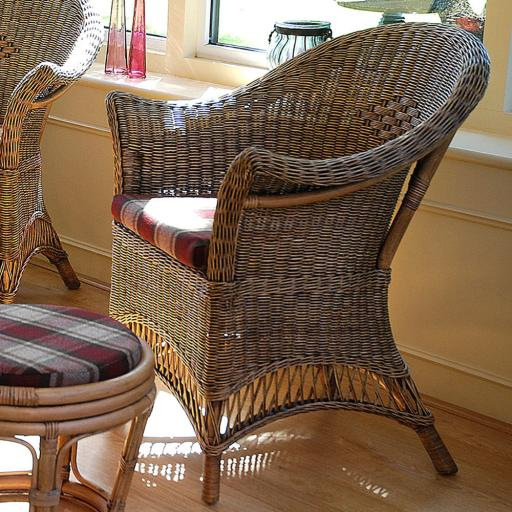chair: (105, 22, 491, 505), (0, 303, 156, 512), (0, 0, 104, 304)
